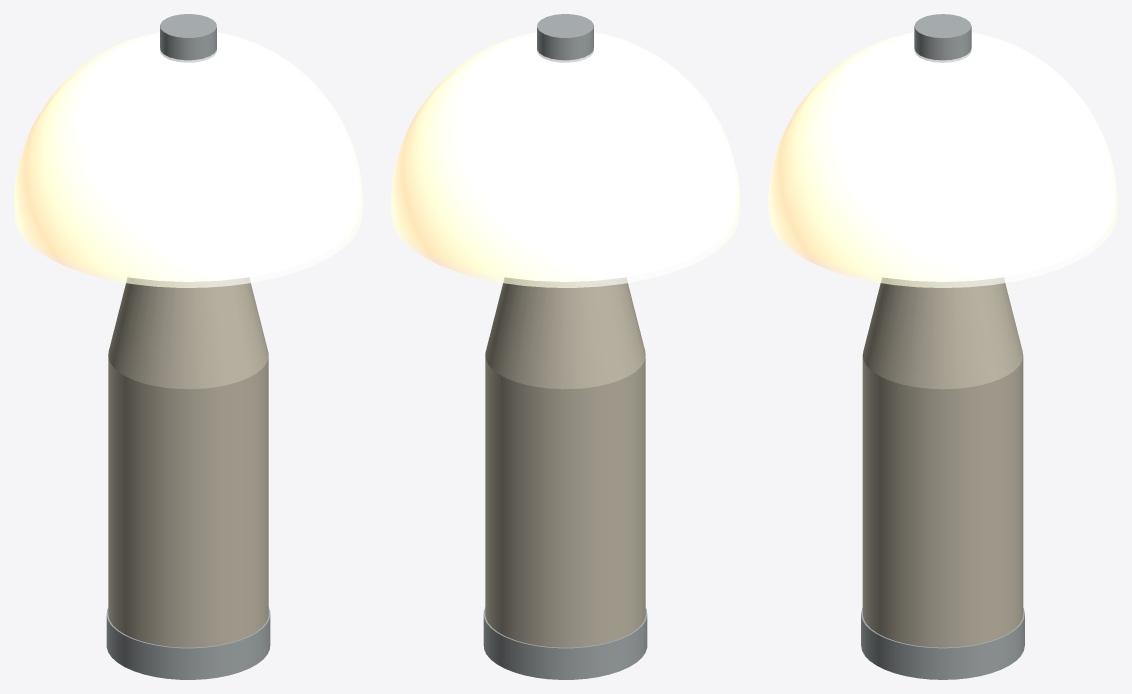
File: atelier-lamp-mushroom-stone.glb
The picture shows the model from 3 angles, left to right: view 1: azimuth 30°, elevation 25°; view 2: azimuth 150°, elevation 25°; view 3: azimuth 270°, elevation 25°; orthographic projection.
Size of the model in its own units: 0.22 by 0.4304 by 0.22.
